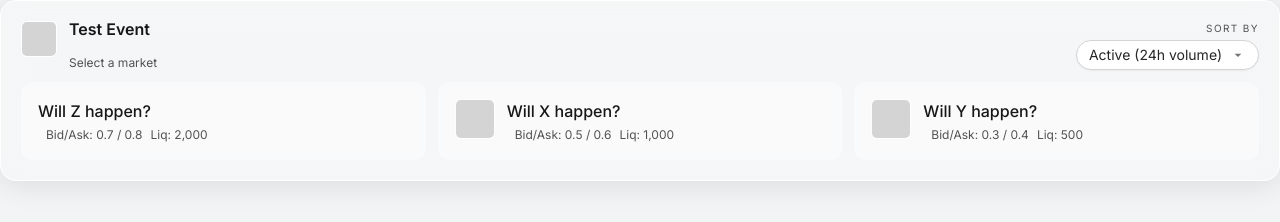
Test: MarketSelection Component › changes sort option to 'total'
Click the button "Active (24h volume)" at (1168, 55), box x1=1076 y1=40 x2=1259 y2=70
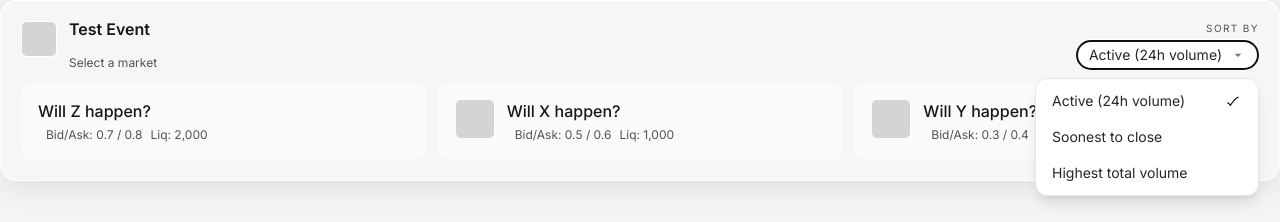
Click the option "Highest total volume" at (1147, 173), box x1=1040 y1=155 x2=1254 y2=191
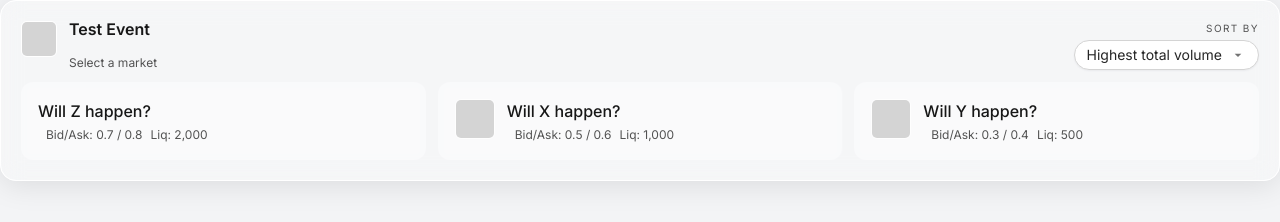
Check: the text "Highest total volume" is shown, box x1=1086 y1=45 x2=1222 y2=65
